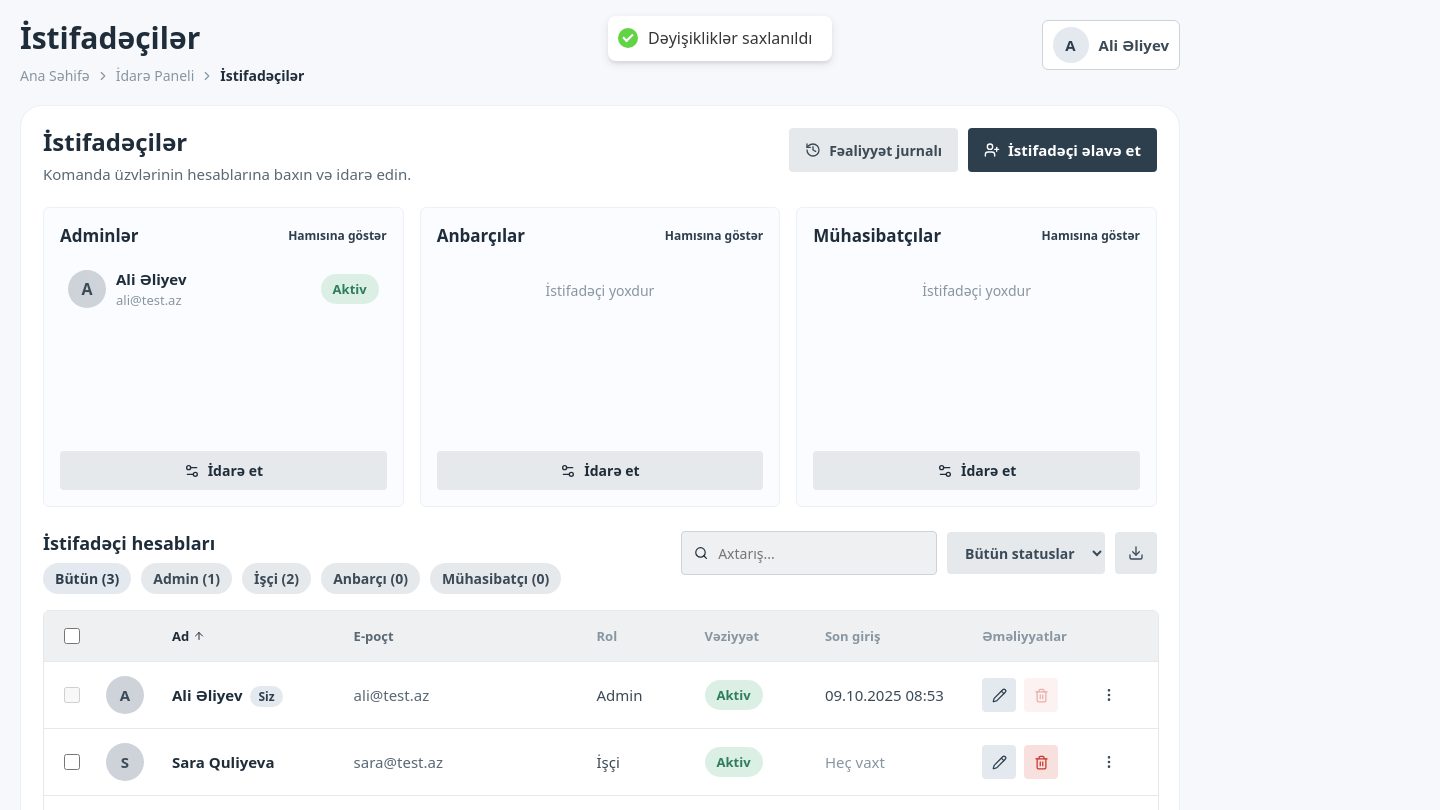
Test: choosing a role in the form shows which sections it opens
Expected: the 1st element with test id "user-row" is shown, [44, 662, 1158, 729]
Step 1. Click the button "İstifadəçi əlavə et" → (1062, 150), box [968, 128, 1157, 172]
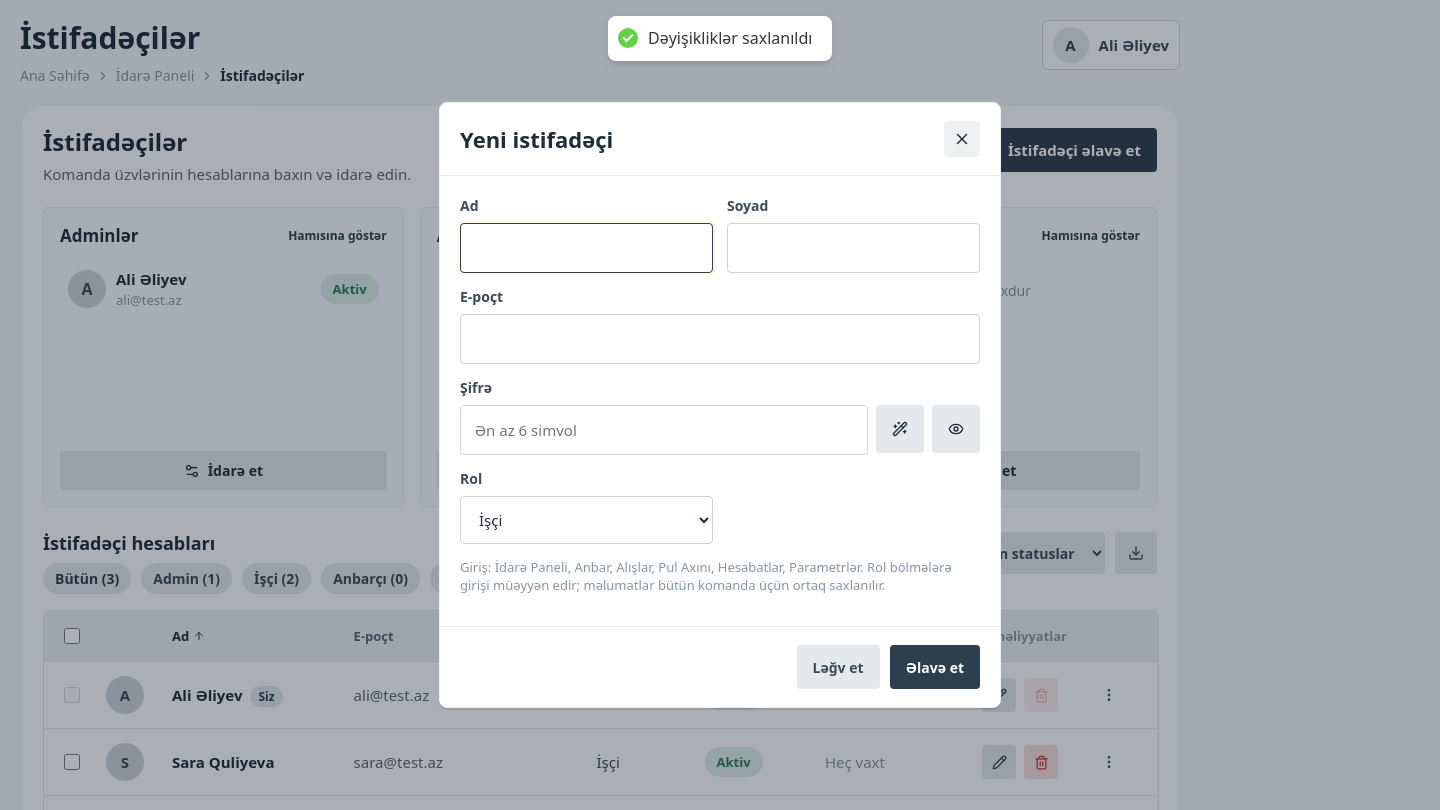
Step 2. Select "Anbarçı" in the dropdown labelled "Rol" → (586, 520), box [460, 496, 713, 544]
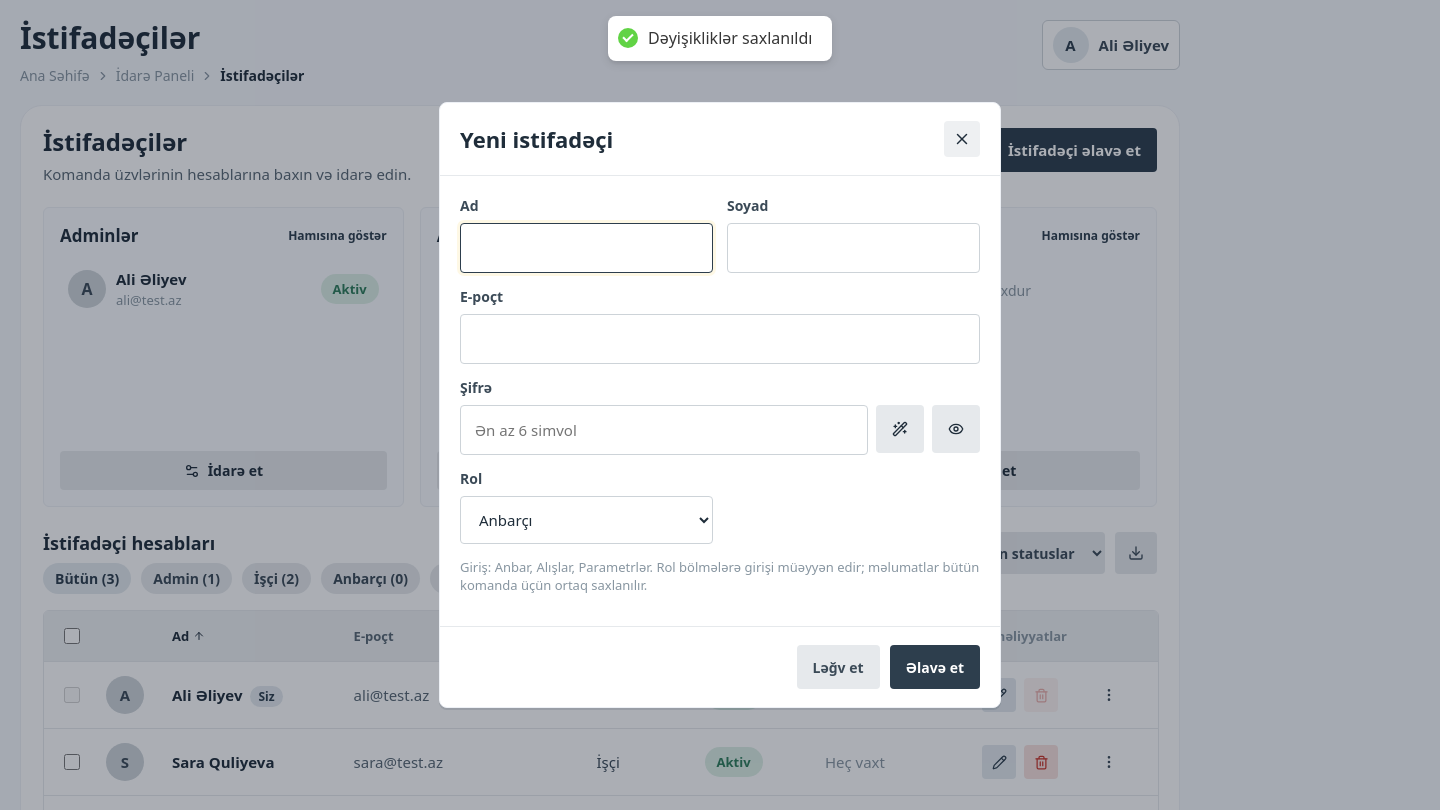
Result: the text "Giriş: Anbar, Alışlar, Parametrlər." is shown at [460, 558, 653, 576]
Step 3. Select "Mühasibatçı" in the dropdown labelled "Rol" → (586, 520), box [460, 496, 713, 544]
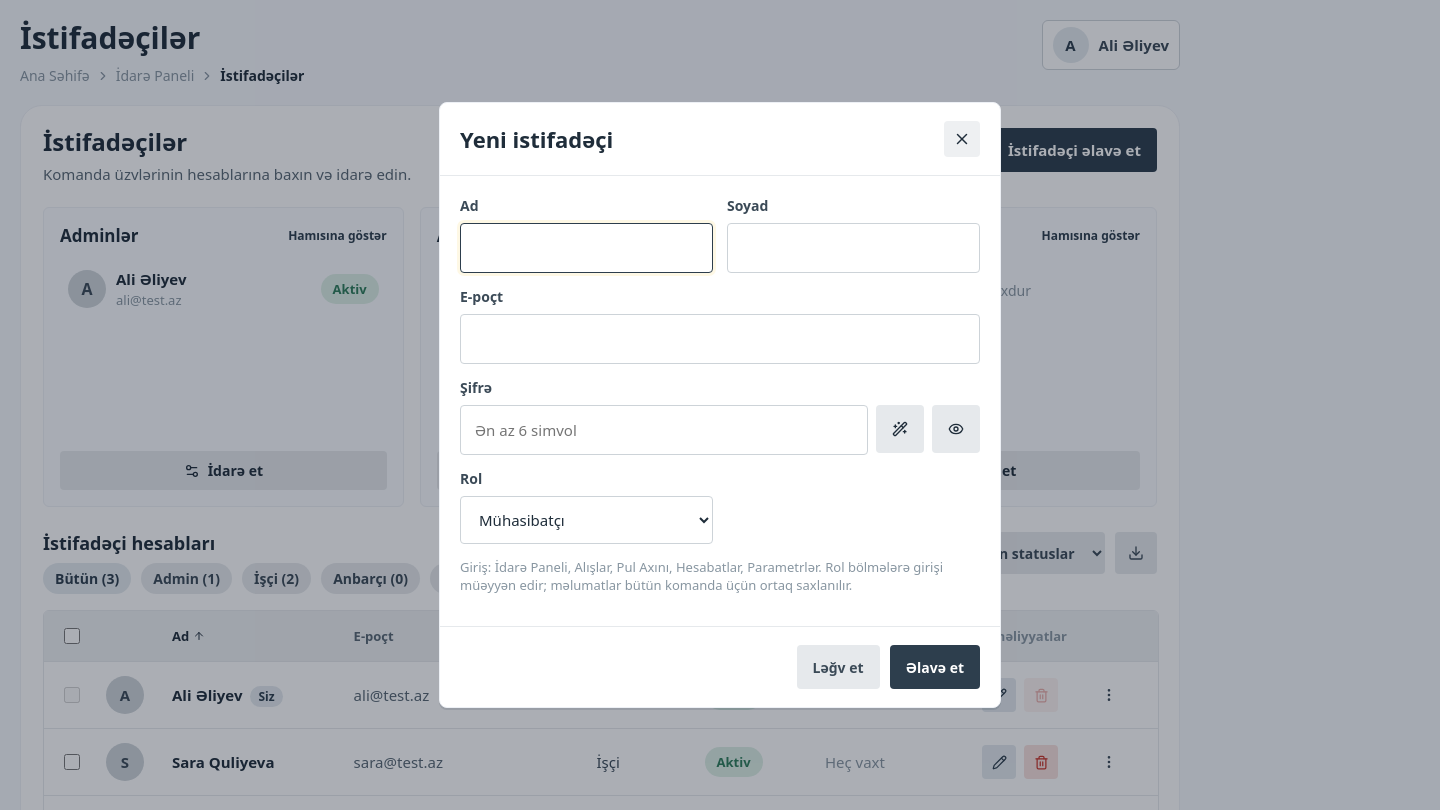
Result: the text "Giriş: İdarə Paneli, Alışlar, Pul Axını, Hesabatlar, Parametrlər." is shown at [460, 558, 822, 576]
